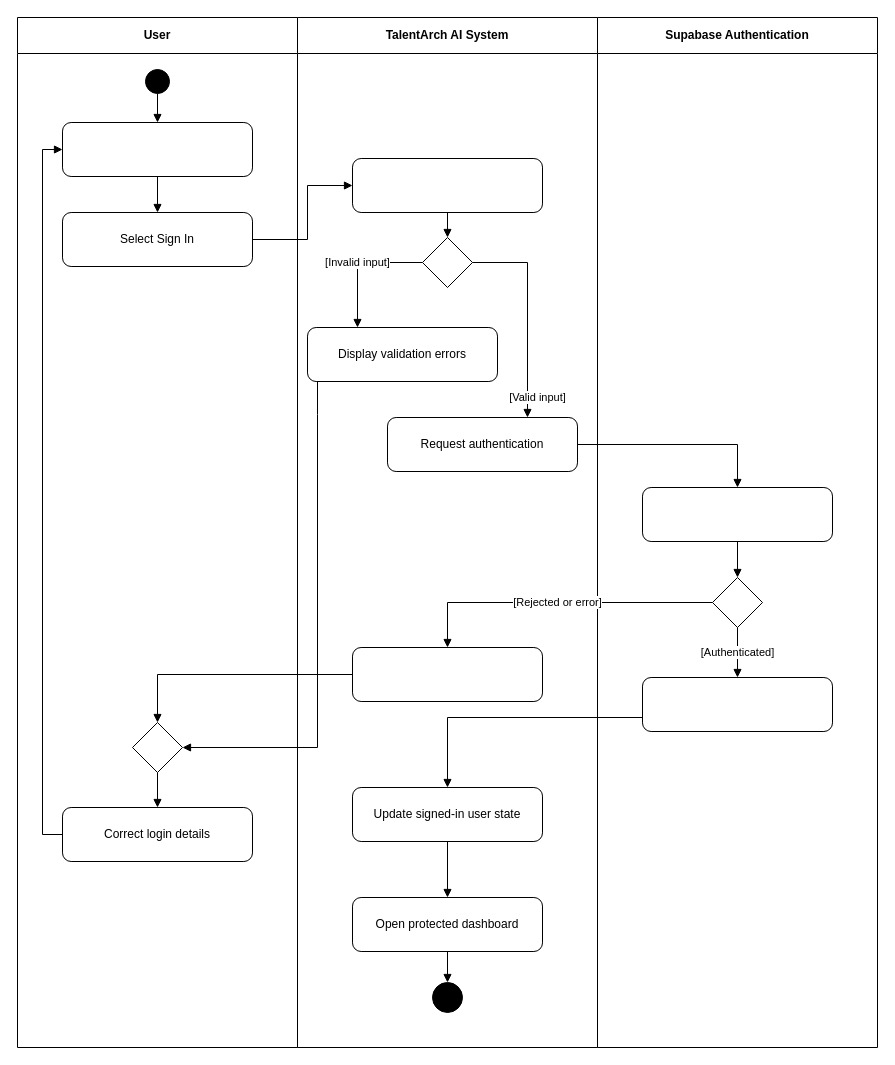
The diagram is 895 pixels wide and 1065 high, and some of its shapes have lost their labels. Here are the shapes that lost their labels. From the top down, the centre of each, then its label:
At pixel 157 149: "Enter email and password".
At pixel 447 185: "Validate login details".
At pixel 737 514: "Verify credentials".
At pixel 447 674: "Display sign-in error".
At pixel 737 704: "Establish authenticated session".
